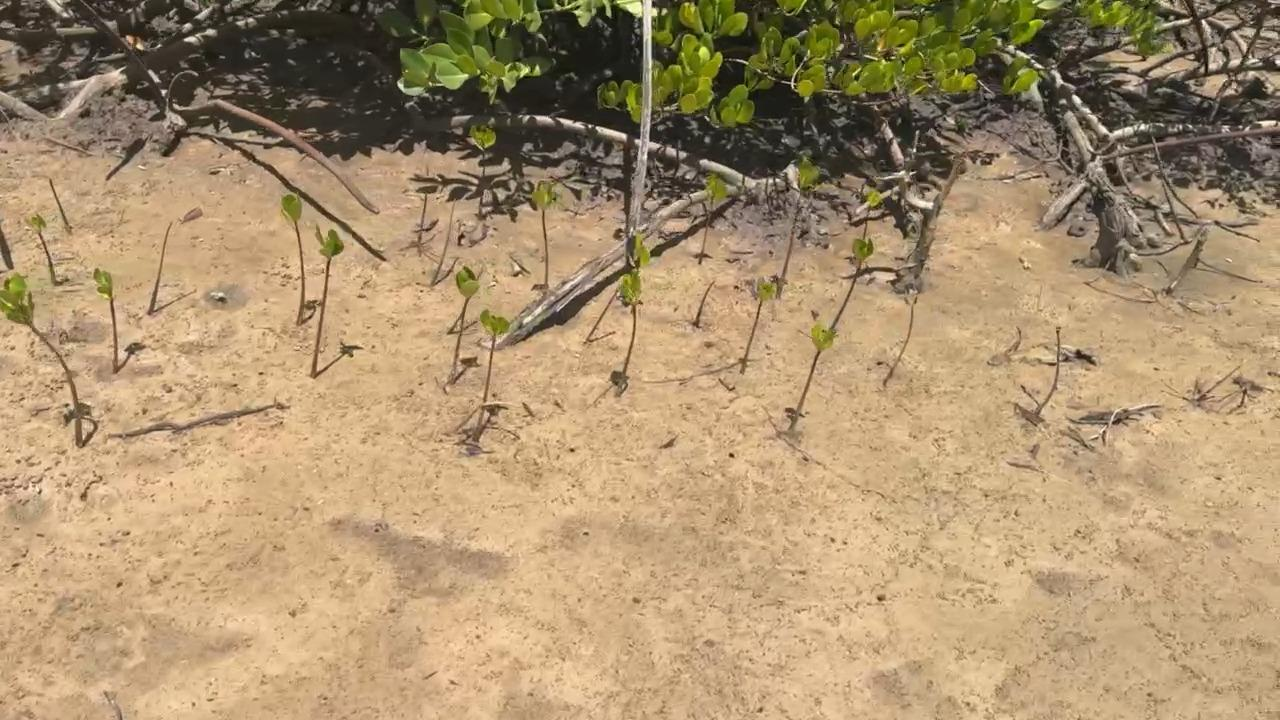Tree: (0, 272, 83, 449), (613, 232, 649, 399), (148, 208, 204, 313), (473, 309, 514, 441), (310, 225, 345, 378), (778, 158, 821, 278), (790, 324, 837, 431), (832, 236, 874, 328), (280, 192, 307, 324), (449, 268, 480, 382), (740, 283, 777, 374), (885, 297, 919, 385), (92, 267, 119, 374), (532, 179, 557, 289), (24, 215, 57, 285), (448, 269, 482, 336), (699, 172, 726, 254), (430, 199, 456, 283), (471, 124, 495, 212), (585, 284, 621, 341), (48, 177, 68, 228), (694, 281, 715, 326), (863, 187, 881, 238), (418, 189, 430, 244)
